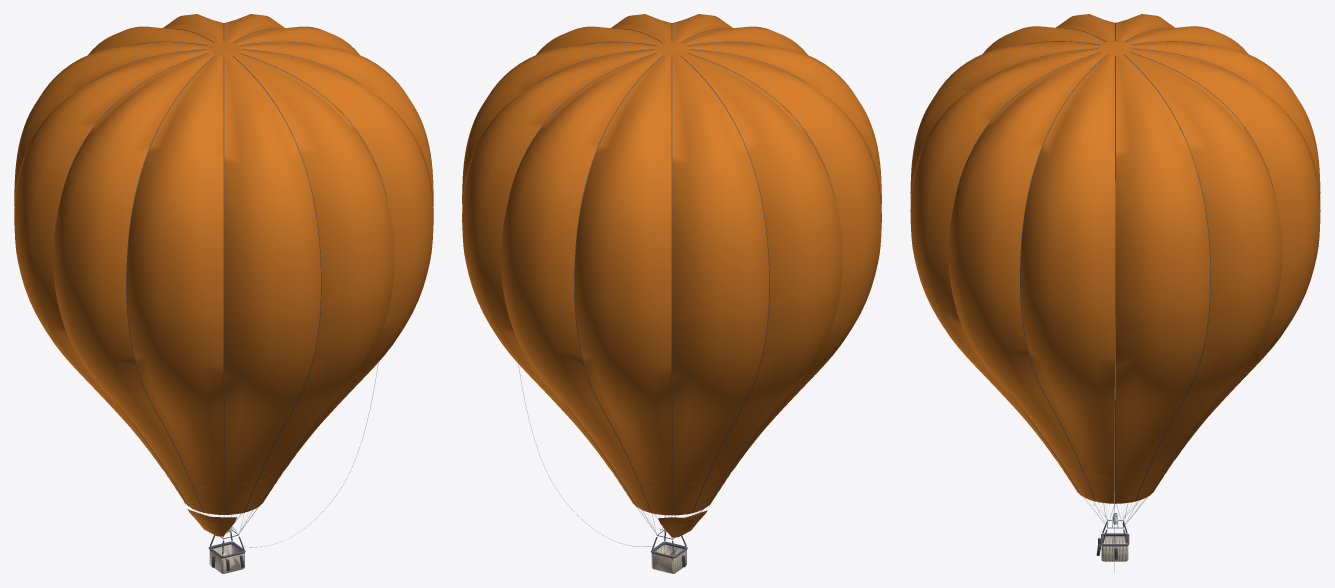
File: balloon.gltf
3 views of the same model, side by side, from view 1: azimuth 30°, elevation 25°; view 2: azimuth 150°, elevation 25°; view 3: azimuth 270°, elevation 25° (orthographic). The views are drawn at different scales.
Visible parts, largest first — view 1: Globo_Tela, Cuerdas_de_La_tela Form84, Barquilla, Paraviento, Cuerdas_de_La_tela Form90, Cuerdas_de_La_tela Form89; view 2: Globo_Tela, Cuerdas_de_La_tela Form82, Barquilla, Paraviento, Cuerdas_de_La_tela Form87, Cuerdas_de_La_tela Form88; view 3: Globo_Tela, Barquilla, Cuerdas_de_La_tela Form86, Cuerdas_de_La_tela Form91.
Boxes of the visible parts, x1,y1,x2,y2 form: Globo_Tela: [14, 14, 433, 514]; Cuerdas_de_La_tela Form84: [223, 57, 224, 514]; Barquilla: [209, 544, 244, 573]; Paraviento: [184, 502, 236, 536]; Cuerdas_de_La_tela Form90: [233, 56, 321, 512]; Cuerdas_de_La_tela Form89: [126, 56, 214, 512]; Globo_Tela: [462, 14, 881, 515]; Cuerdas_de_La_tela Form82: [671, 57, 672, 515]; Barquilla: [651, 544, 686, 573]; Paraviento: [658, 504, 710, 537]; Cuerdas_de_La_tela Form87: [574, 56, 662, 513]; Cuerdas_de_La_tela Form88: [681, 56, 769, 513]; Globo_Tela: [910, 14, 1320, 503]; Barquilla: [1101, 536, 1128, 561]; Cuerdas_de_La_tela Form86: [1124, 54, 1210, 501]; Cuerdas_de_La_tela Form91: [1020, 54, 1106, 501].
Bounding box in the file's own units: 0.5027 × 0.6859 × 0.5027.
Materials: 9 (1 with a texture image).
